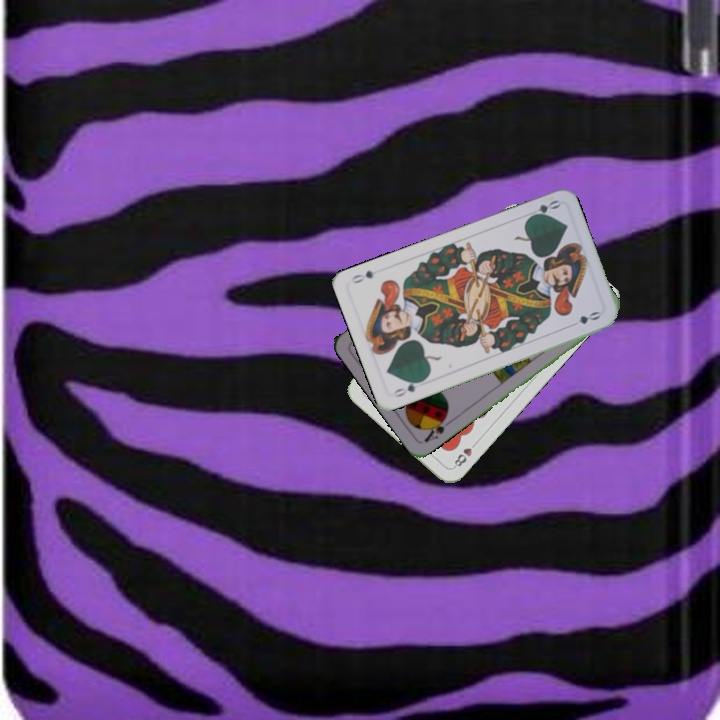GO: (523, 196, 562, 222), (389, 375, 427, 400)
H8: (449, 437, 480, 471)
SA: (420, 411, 454, 445)
